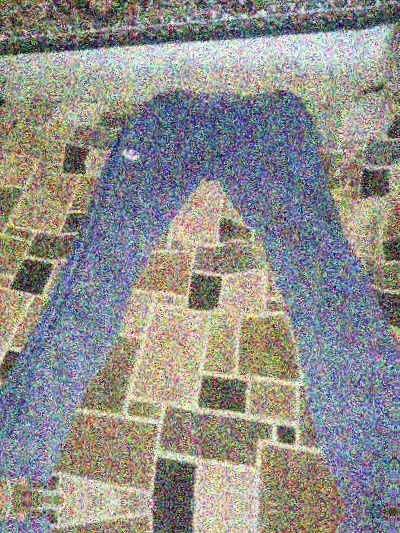Pants: (0, 44, 390, 493), (0, 516, 373, 533), (397, 532, 400, 533)
